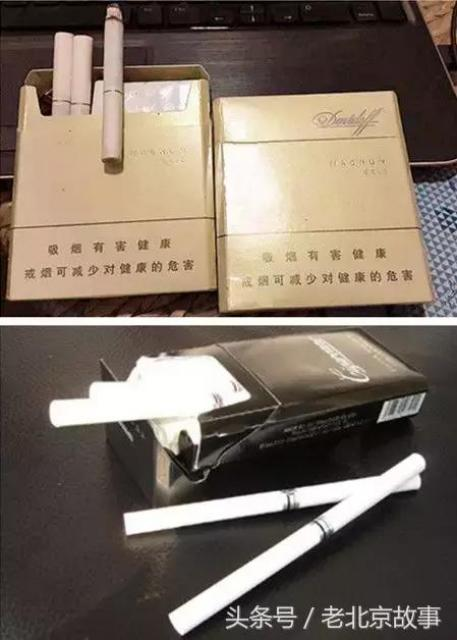Cigarette: (167, 456, 423, 636), (120, 472, 420, 538), (43, 398, 221, 427), (100, 4, 128, 172), (49, 28, 71, 118), (74, 34, 92, 116), (90, 378, 182, 394)
